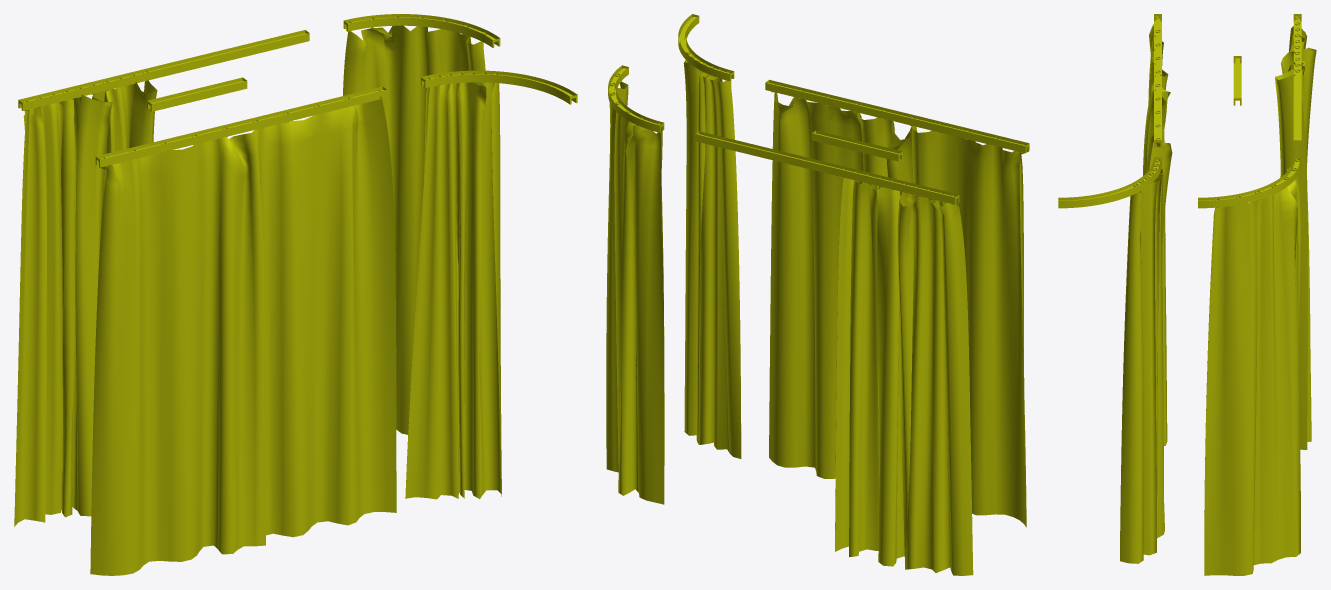
File: Curtains.fbx
The picture shows the model from 3 angles, left to right: view 1: azimuth 30°, elevation 25°; view 2: azimuth 150°, elevation 25°; view 3: azimuth 270°, elevation 25°; orthographic projection. The views are drawn at different scales.
Visible parts, largest first — view 1: Curtain_2, Curtain_1, Curtain_5, Curtain_4_1, Cuyrtain_4, Curtain_3; view 2: Curtain_2, Curtain_1, Curtain_4_1, Curtain_5, Curtain_3, Cuyrtain_4; view 3: Curtain_4_1, Curtain_5, Curtain_1, Curtain_2, Cuyrtain_4, Curtain_3.
Boxes of the visible parts, x1,y1,x2,y2 form: Curtain_2: (90,86,396,575); Curtain_1: (14,30,309,526); Curtain_5: (405,70,577,499); Curtain_4_1: (343,16,486,434); Cuyrtain_4: (343,14,500,47); Curtain_3: (147,77,247,111); Curtain_2: (765,79,1029,527); Curtain_1: (695,131,973,575); Curtain_4_1: (606,73,664,504); Curtain_5: (678,14,741,458); Curtain_3: (812,130,902,161); Cuyrtain_4: (608,65,664,132); Curtain_4_1: (1204,158,1300,575); Curtain_5: (1058,157,1164,563); Curtain_1: (1275,14,1316,449); Curtain_2: (1143,14,1172,445); Cuyrtain_4: (1198,157,1301,208); Curtain_3: (1233,56,1241,105).
Bounding box in the file's own units: 228 × 210 × 130.
